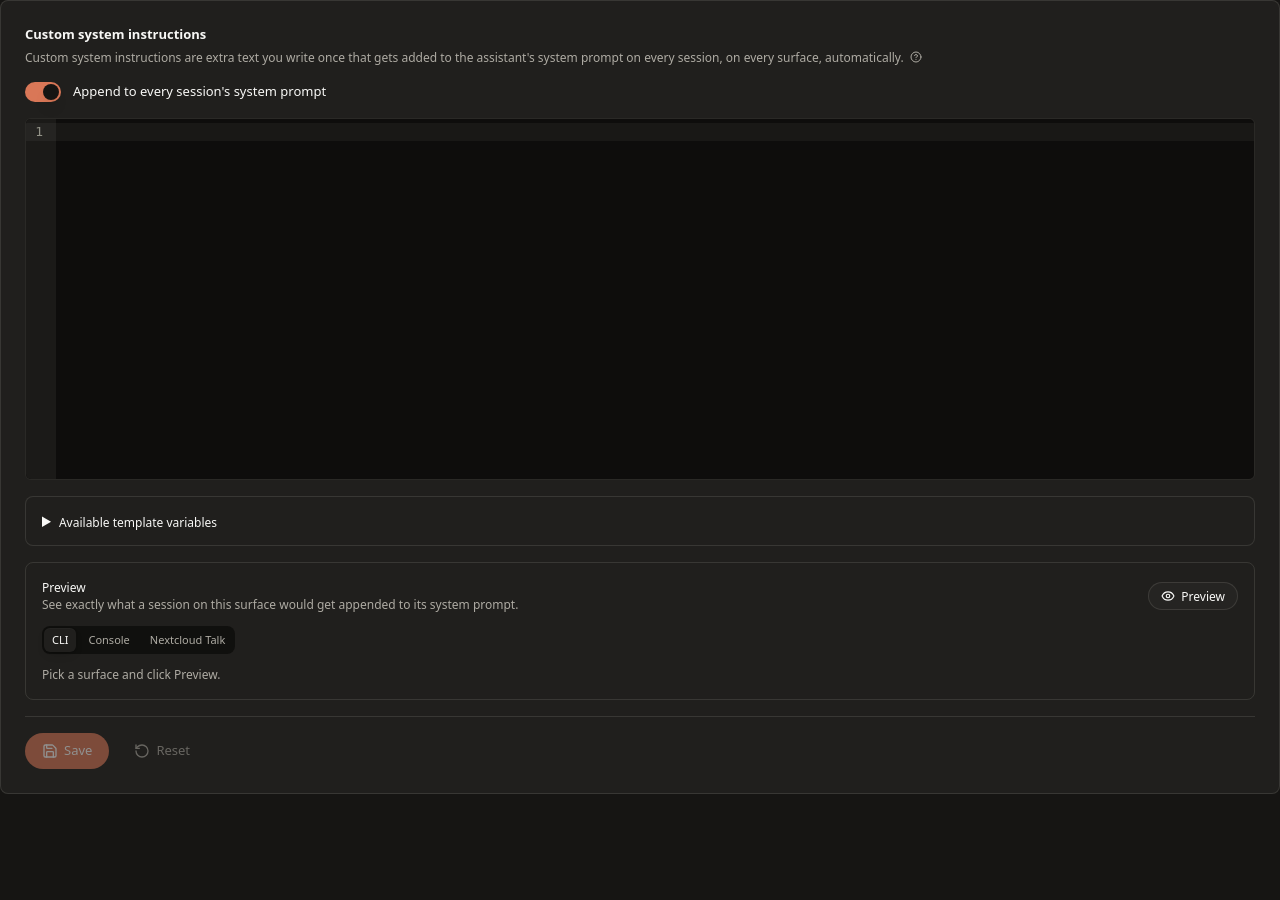
Test: SystemInstructionsPane variable values › a long list collapses to a count that opens a filterable popover
The width and height of the screenshot is (1280, 900).
Click the heading "Available template variables" at (138,522), box left=59, top=514, right=217, bottom=531
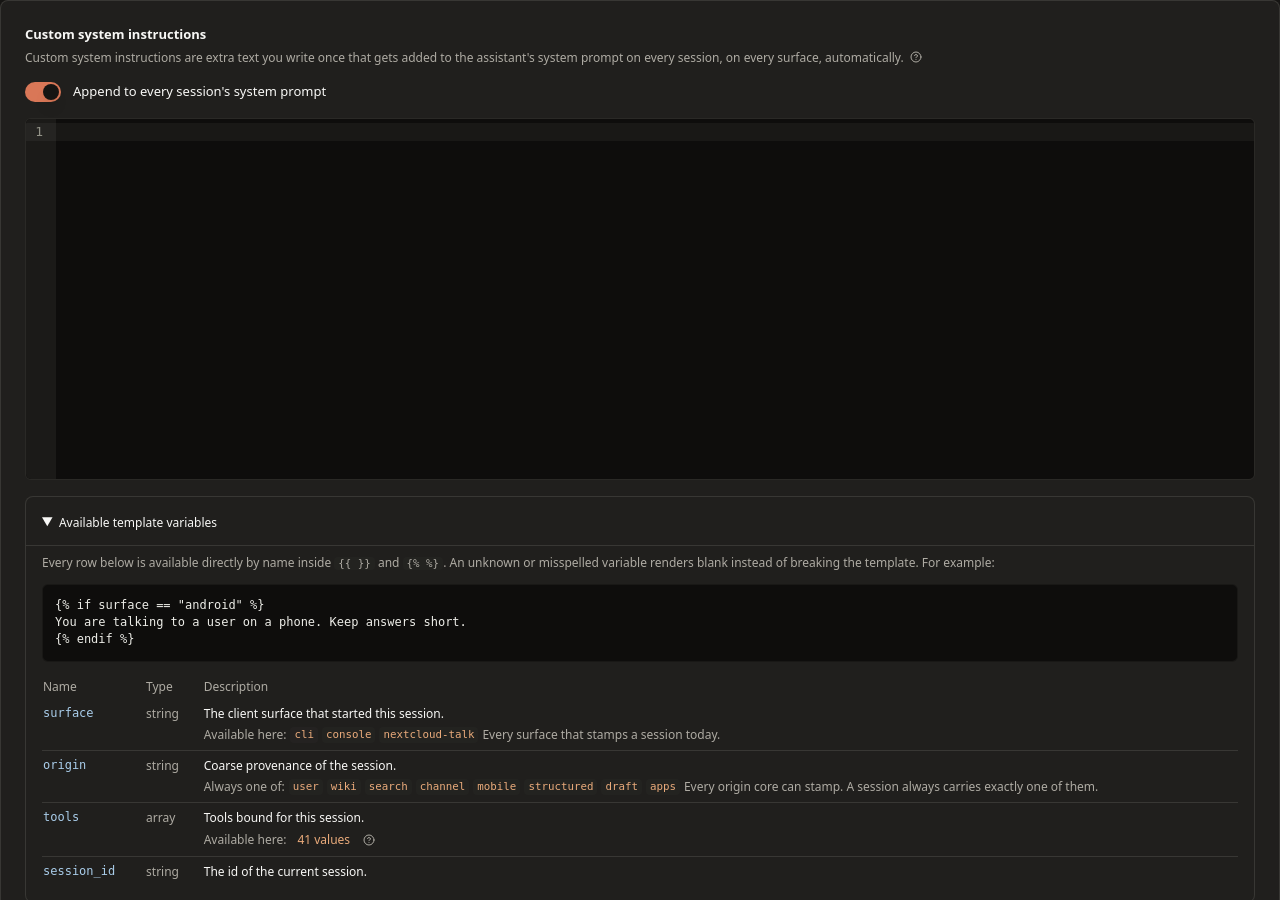
Check: the button "tool_7" is not shown
Check: the text "Available here:" below "Tools bound for this session." is shown, box left=204, top=831, right=286, bottom=848
Check: the button with aria-label "browse the 41 values of tools" reads "41 values"
Click the button with aria-label "browse the 41 values of tools" at (324,840), box left=290, top=830, right=357, bottom=850
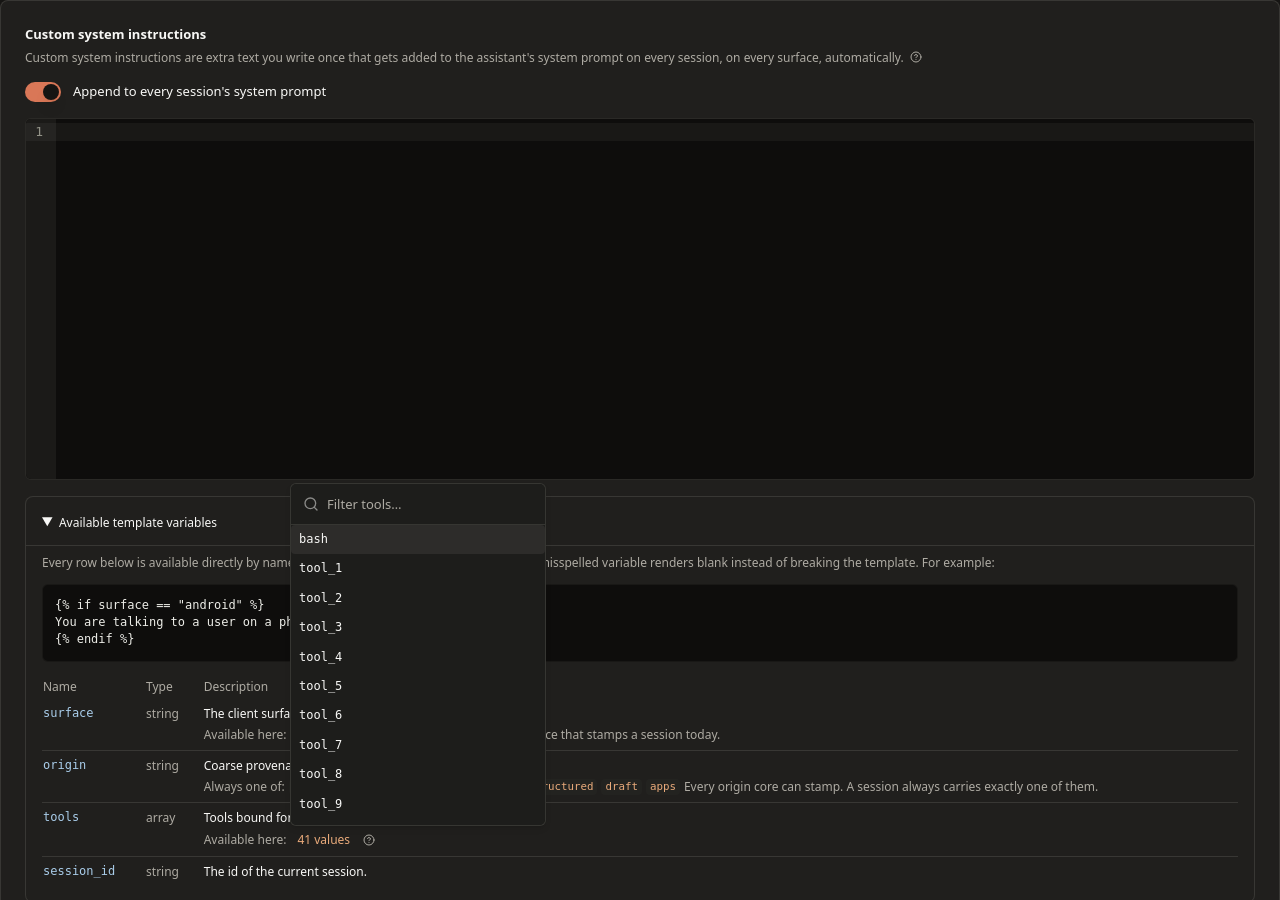
Check: the option "tool_7" is shown, box left=299, top=738, right=342, bottom=752
Type "tool_31" into the dropdown with placeholder "Filter tools…" at (430,504), box left=327, top=484, right=533, bottom=524
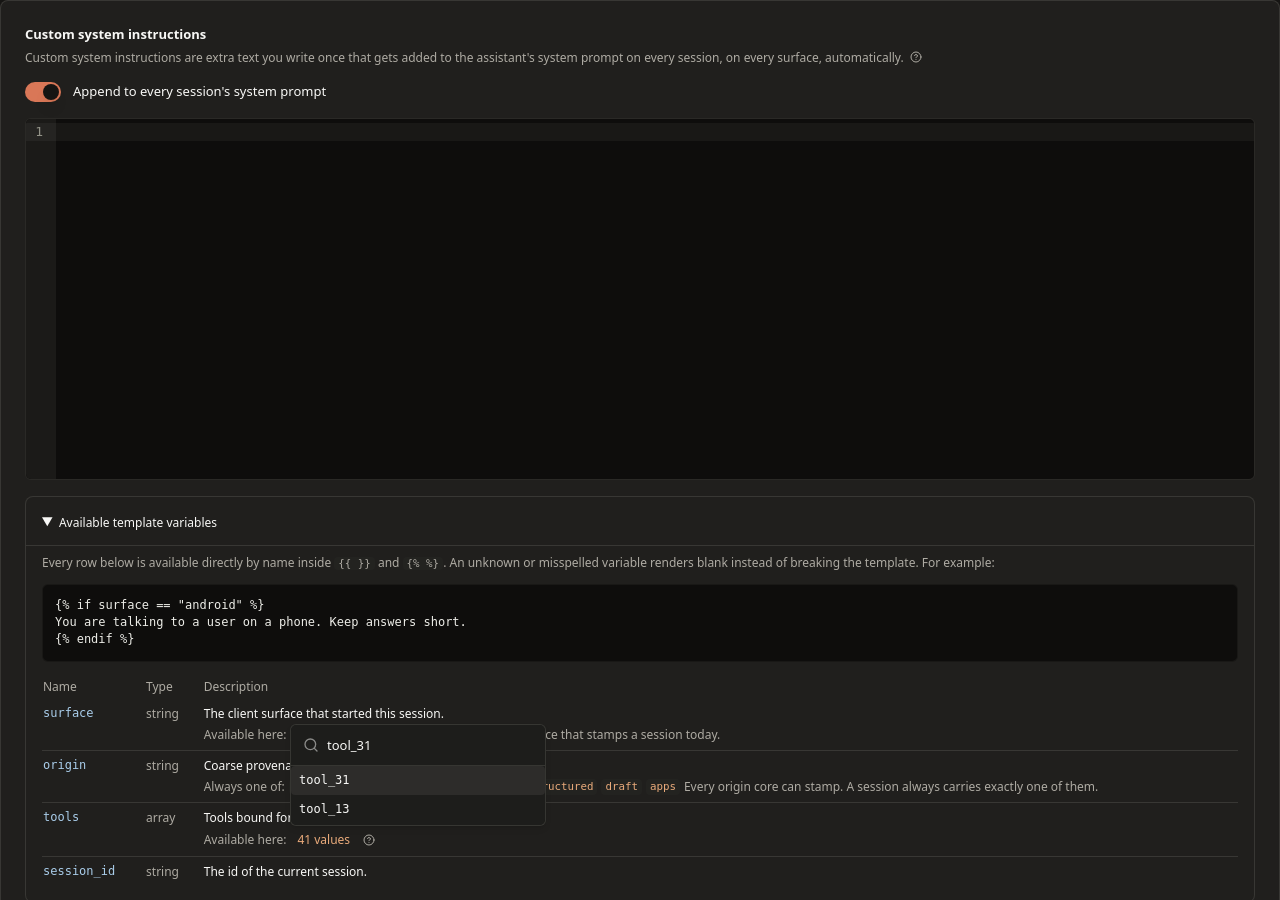
Check: the option "tool_31" is shown, box left=291, top=766, right=545, bottom=795
Check: the option "tool_7" is gone
